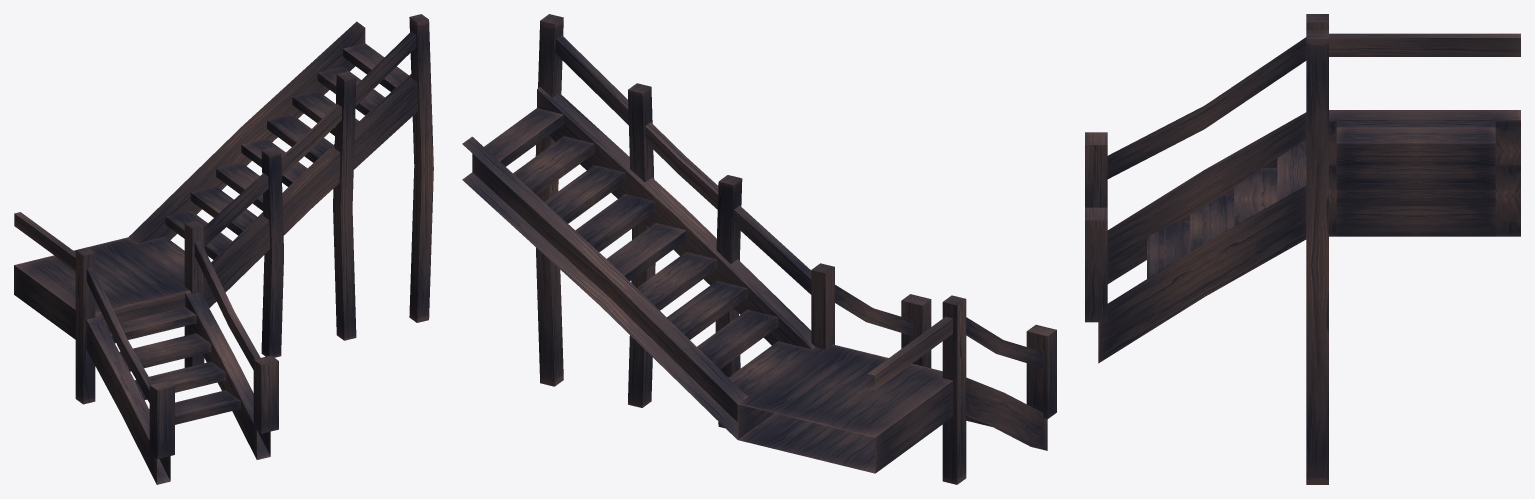
The model's file is Stairs_A.fbx.
The picture shows the model from 3 angles, left to right: view 1: azimuth 30°, elevation 25°; view 2: azimuth 150°, elevation 25°; view 3: azimuth 270°, elevation 25°; orthographic projection. The views are drawn at different scales.
Parts seen in each view (by area): view 1: Stairs_A; view 2: Stairs_A; view 3: Stairs_A.
Boxes of the visible parts, left/top/right/bottom form: Stairs_A: left=14, top=14, right=433, bottom=484; Stairs_A: left=462, top=14, right=1056, bottom=484; Stairs_A: left=1085, top=14, right=1520, bottom=484.
Size of the model in its own units: 0.963 by 0.8656 by 0.698.
